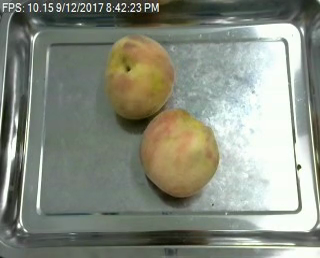Peach: (139, 107, 220, 197), (105, 32, 174, 119)
